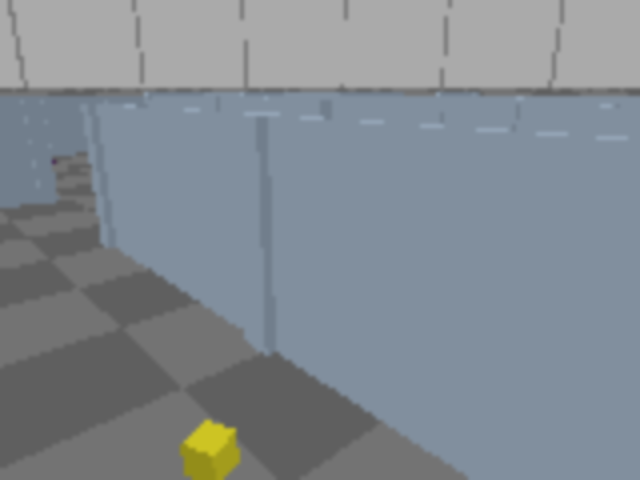puck: (181, 419, 239, 478)
